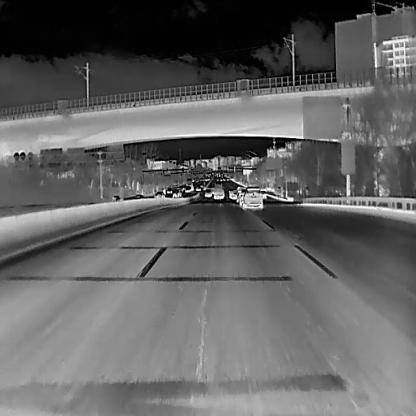car: (242, 185, 262, 208), (172, 188, 180, 198), (228, 190, 237, 198), (204, 188, 211, 197), (154, 191, 164, 197), (185, 185, 191, 192)
truck: (213, 182, 224, 198)
